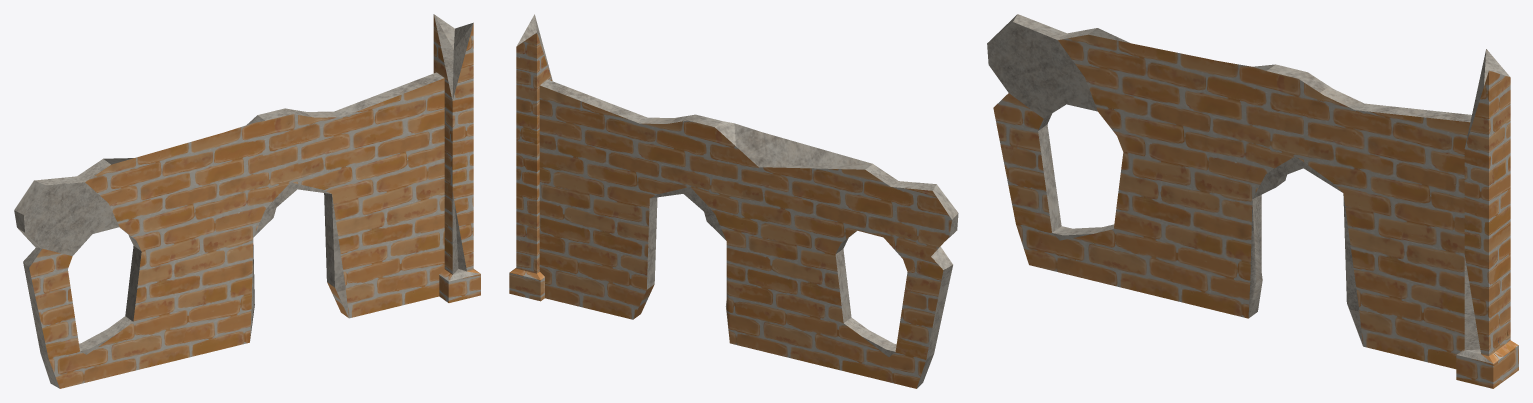
File: OldRuins_V2.fbx
3 renders of one model, left to right at view 1: azimuth 30°, elevation 25°; view 2: azimuth 150°, elevation 25°; view 3: azimuth 330°, elevation 25°, orthographic. The views are drawn at different scales.
Parts seen in each view (by area): view 1: polySurface1065, polySurface937; view 2: polySurface1065, polySurface937; view 3: polySurface1065, polySurface937.
Part boxes in pixels (x1,y1,x2,y2): polySurface1065: (14, 72, 444, 388); polySurface937: (433, 14, 480, 302); polySurface1065: (539, 79, 958, 388); polySurface937: (509, 14, 552, 301); polySurface1065: (987, 14, 1508, 369); polySurface937: (1456, 49, 1518, 388).
Bounding box in the file's own units: 1640 × 953 × 139.
Materials: 2 (2 with a texture image).
